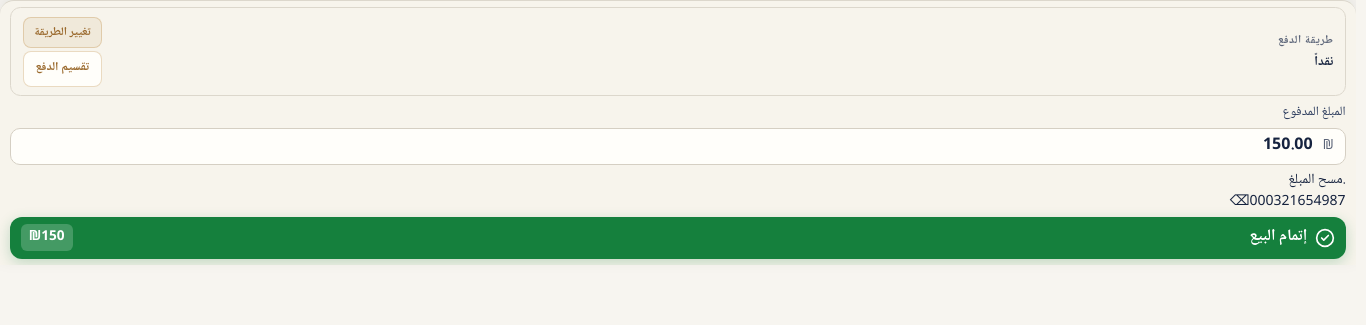
Test case: AdvancedPaymentPanel numeric keypad › replaces the default cash amount with keypad digits and enables exact checkout
Expected: the field labelled "المبلغ المدفوع" holds "150.00", [10,128,1346,165]
Click the button "مسح المبلغ": (1316, 181) [1288,170,1343,192]
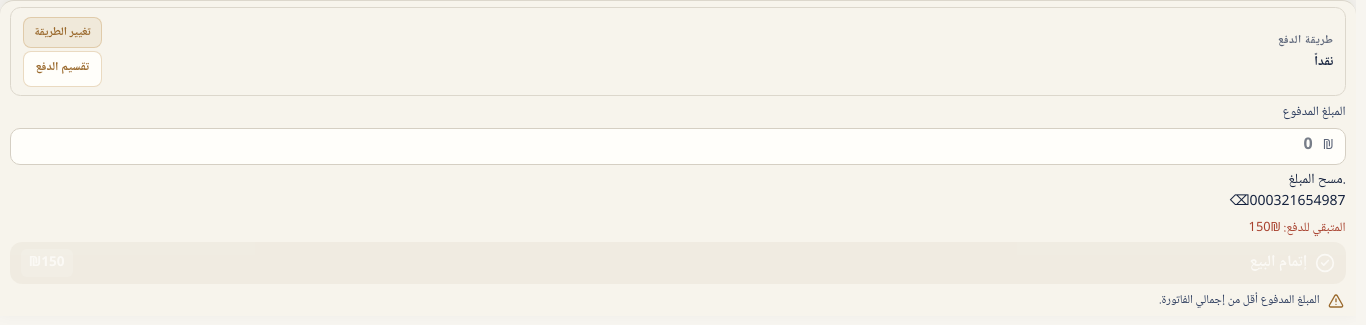
Click the button "1": (1294, 203) [1290,192,1298,214]
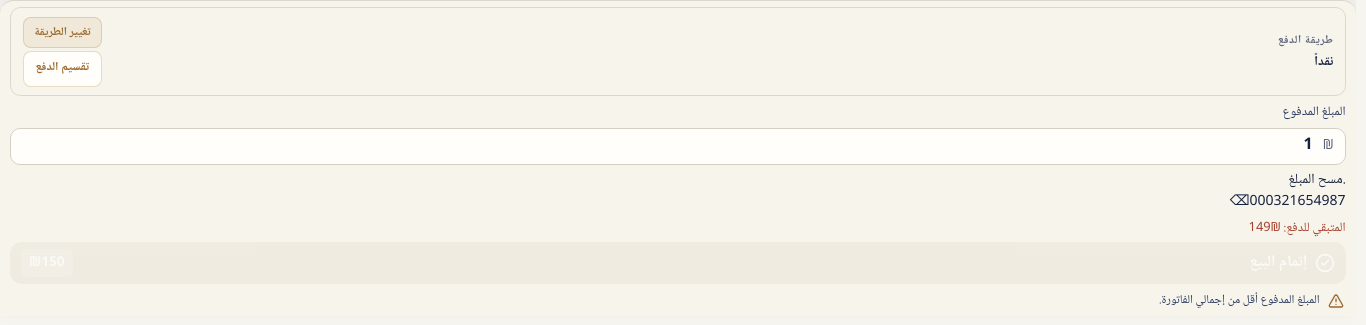
Click the button "5": (1310, 203) [1306,192,1314,214]
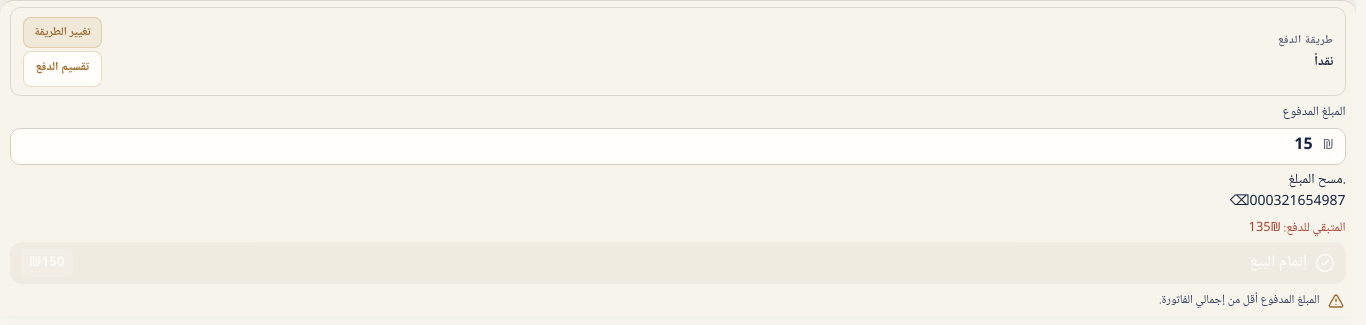
Click the button "0": (1253, 203) [1249,192,1257,214]
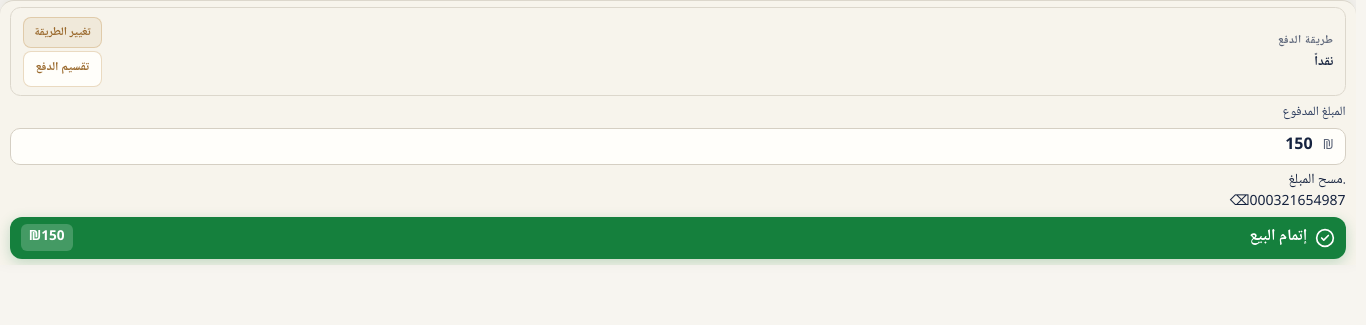
Now the field labelled "المبلغ المدفوع" holds "150", box [10,128,1346,165]
Now the button "إتمام البيع ₪150" is enabled, box [10,217,1346,259]
